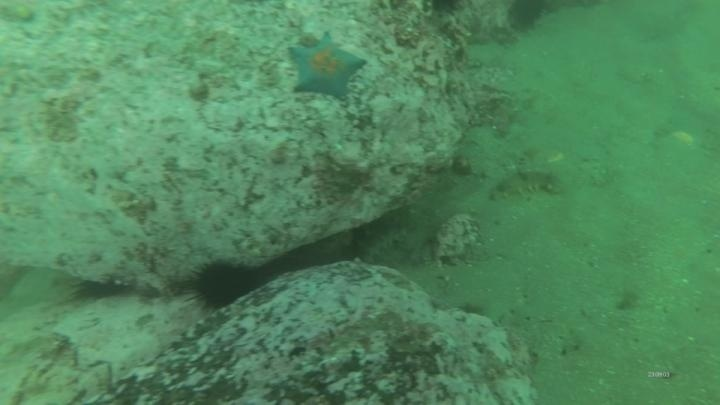echinus: (186, 256, 262, 312), (504, 1, 552, 34)
holothurian: (488, 165, 564, 202)
starfish: (286, 31, 368, 101)
